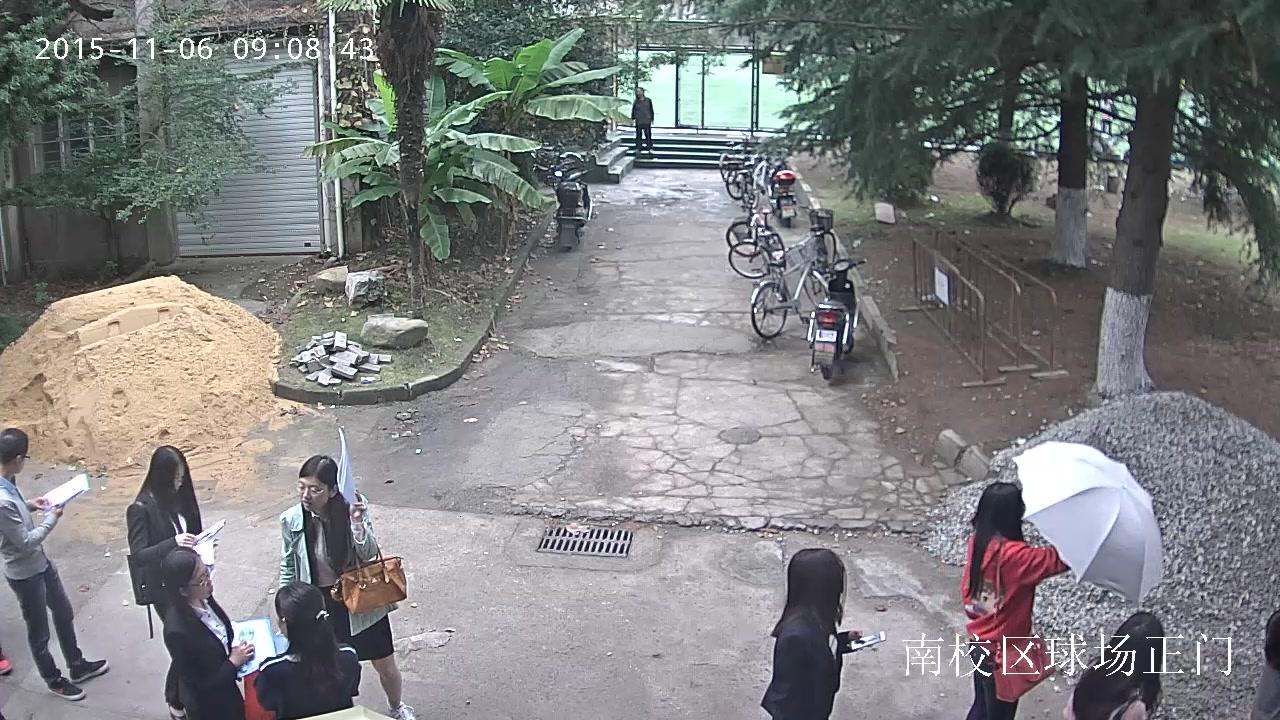face: (298, 476, 330, 511), (188, 555, 213, 596), (175, 460, 184, 494), (19, 444, 26, 472), (634, 87, 641, 96)
